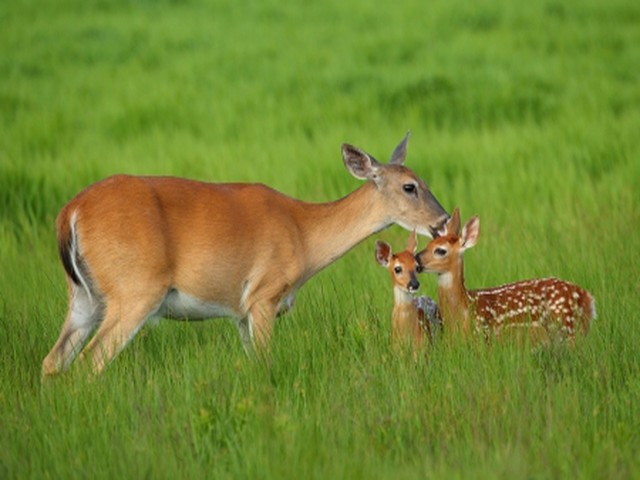deer: (30, 86, 450, 385), (427, 215, 600, 356)
